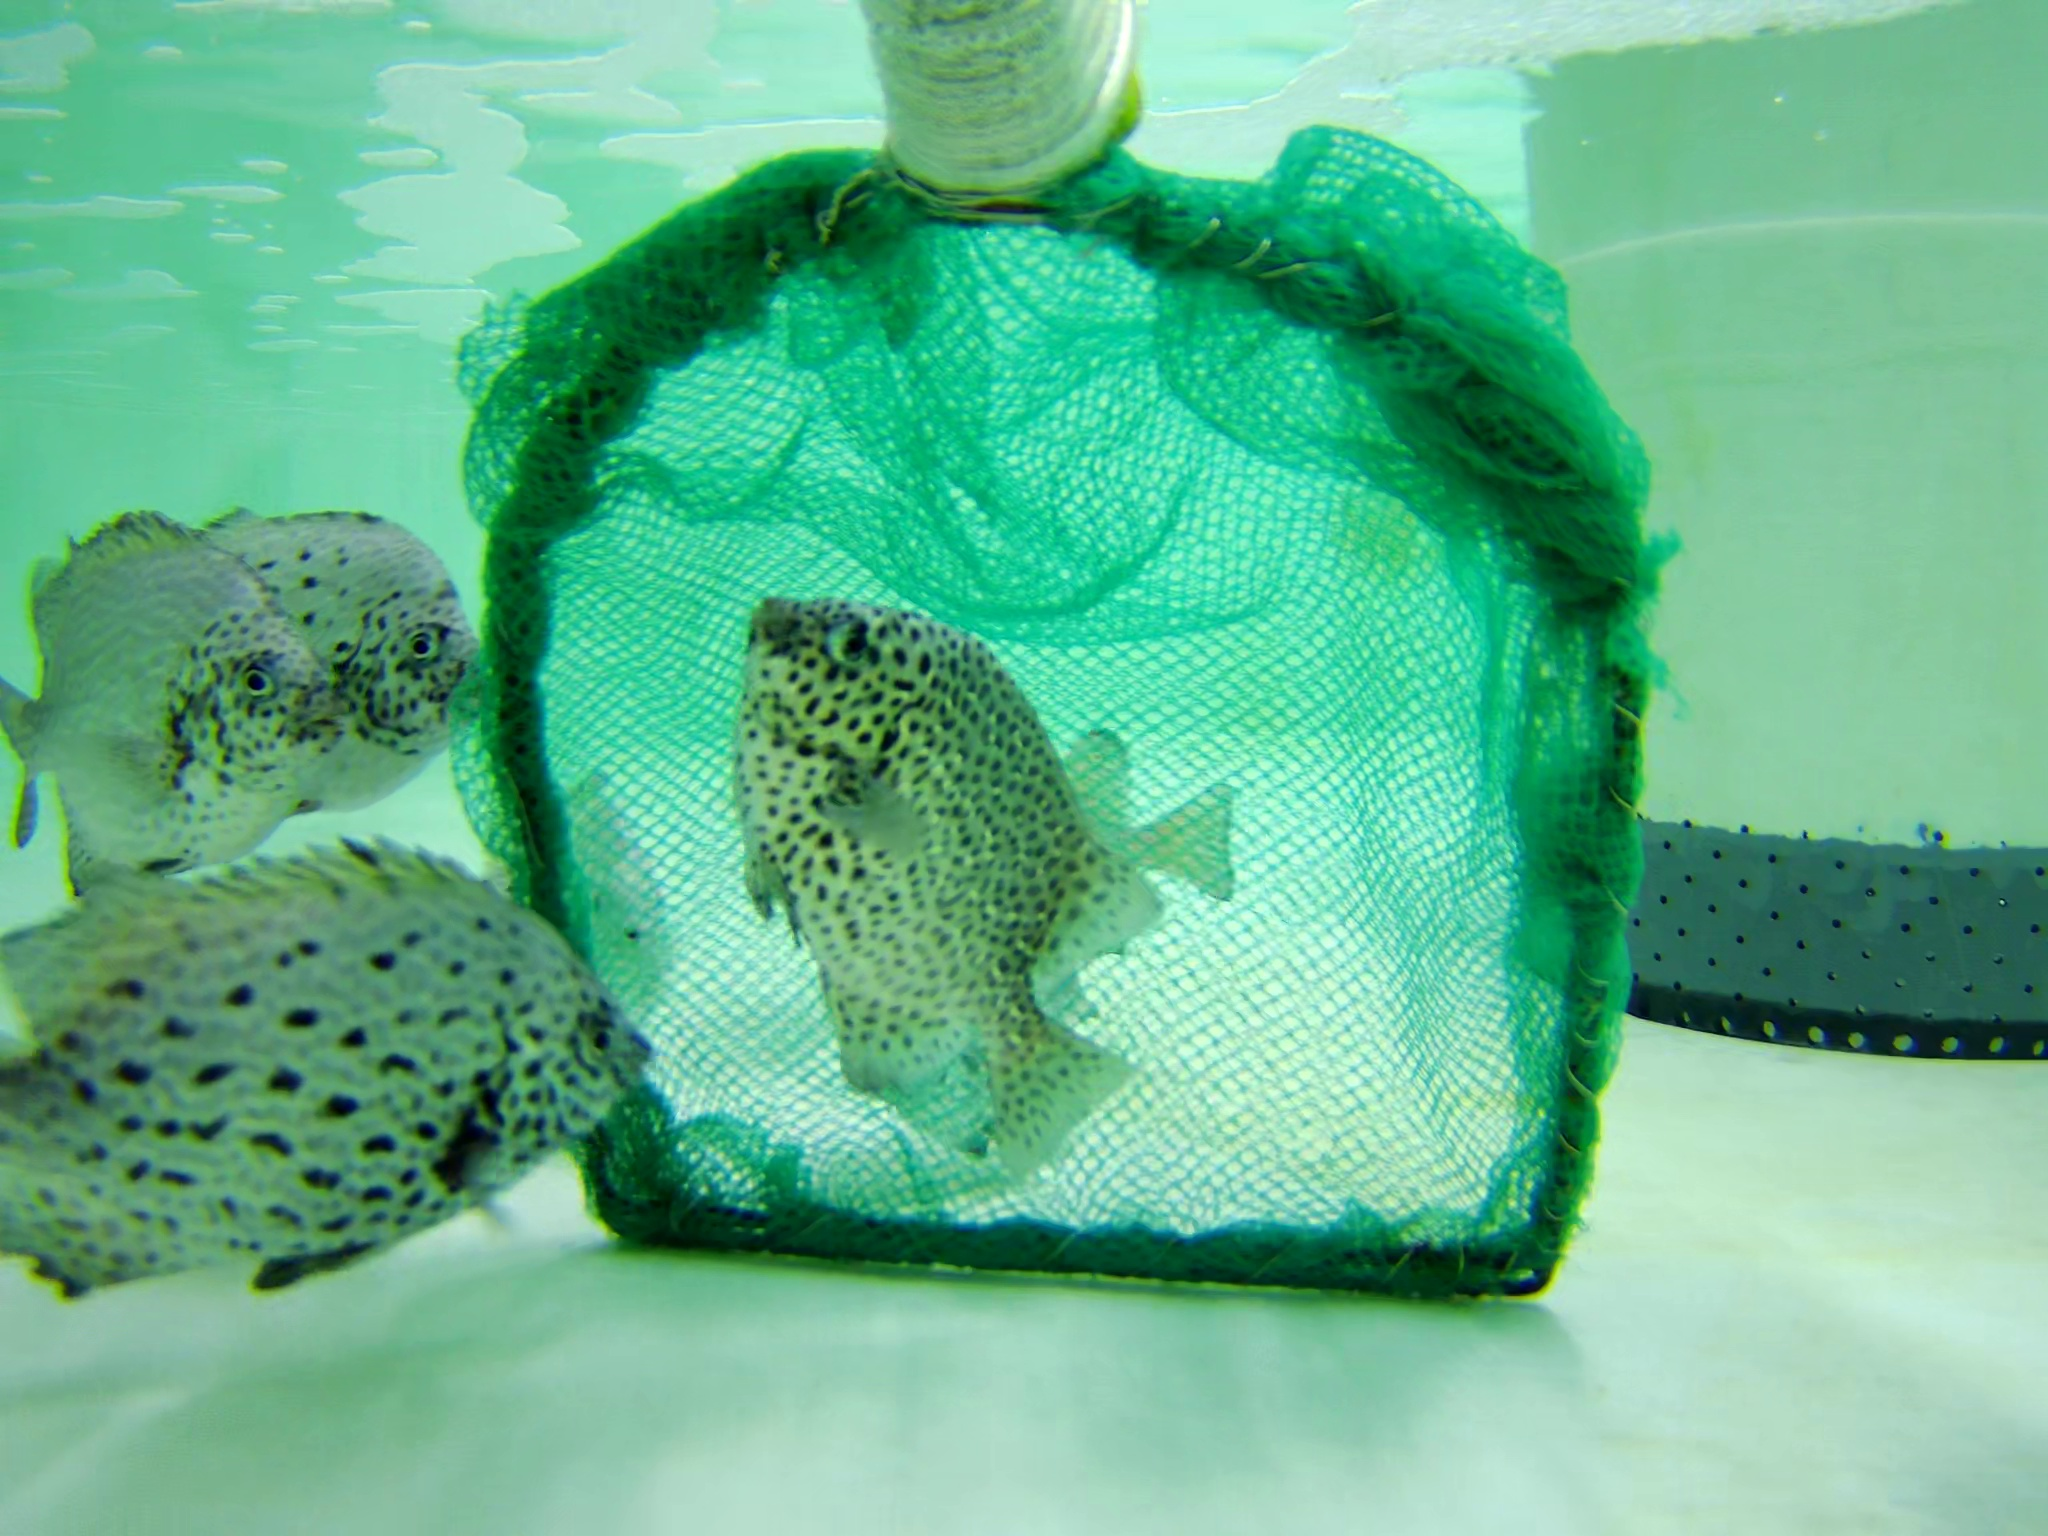fish: (2, 862, 661, 1309), (735, 574, 1150, 1179), (6, 520, 339, 897), (192, 481, 484, 799), (984, 708, 1245, 965), (556, 783, 674, 1004)
